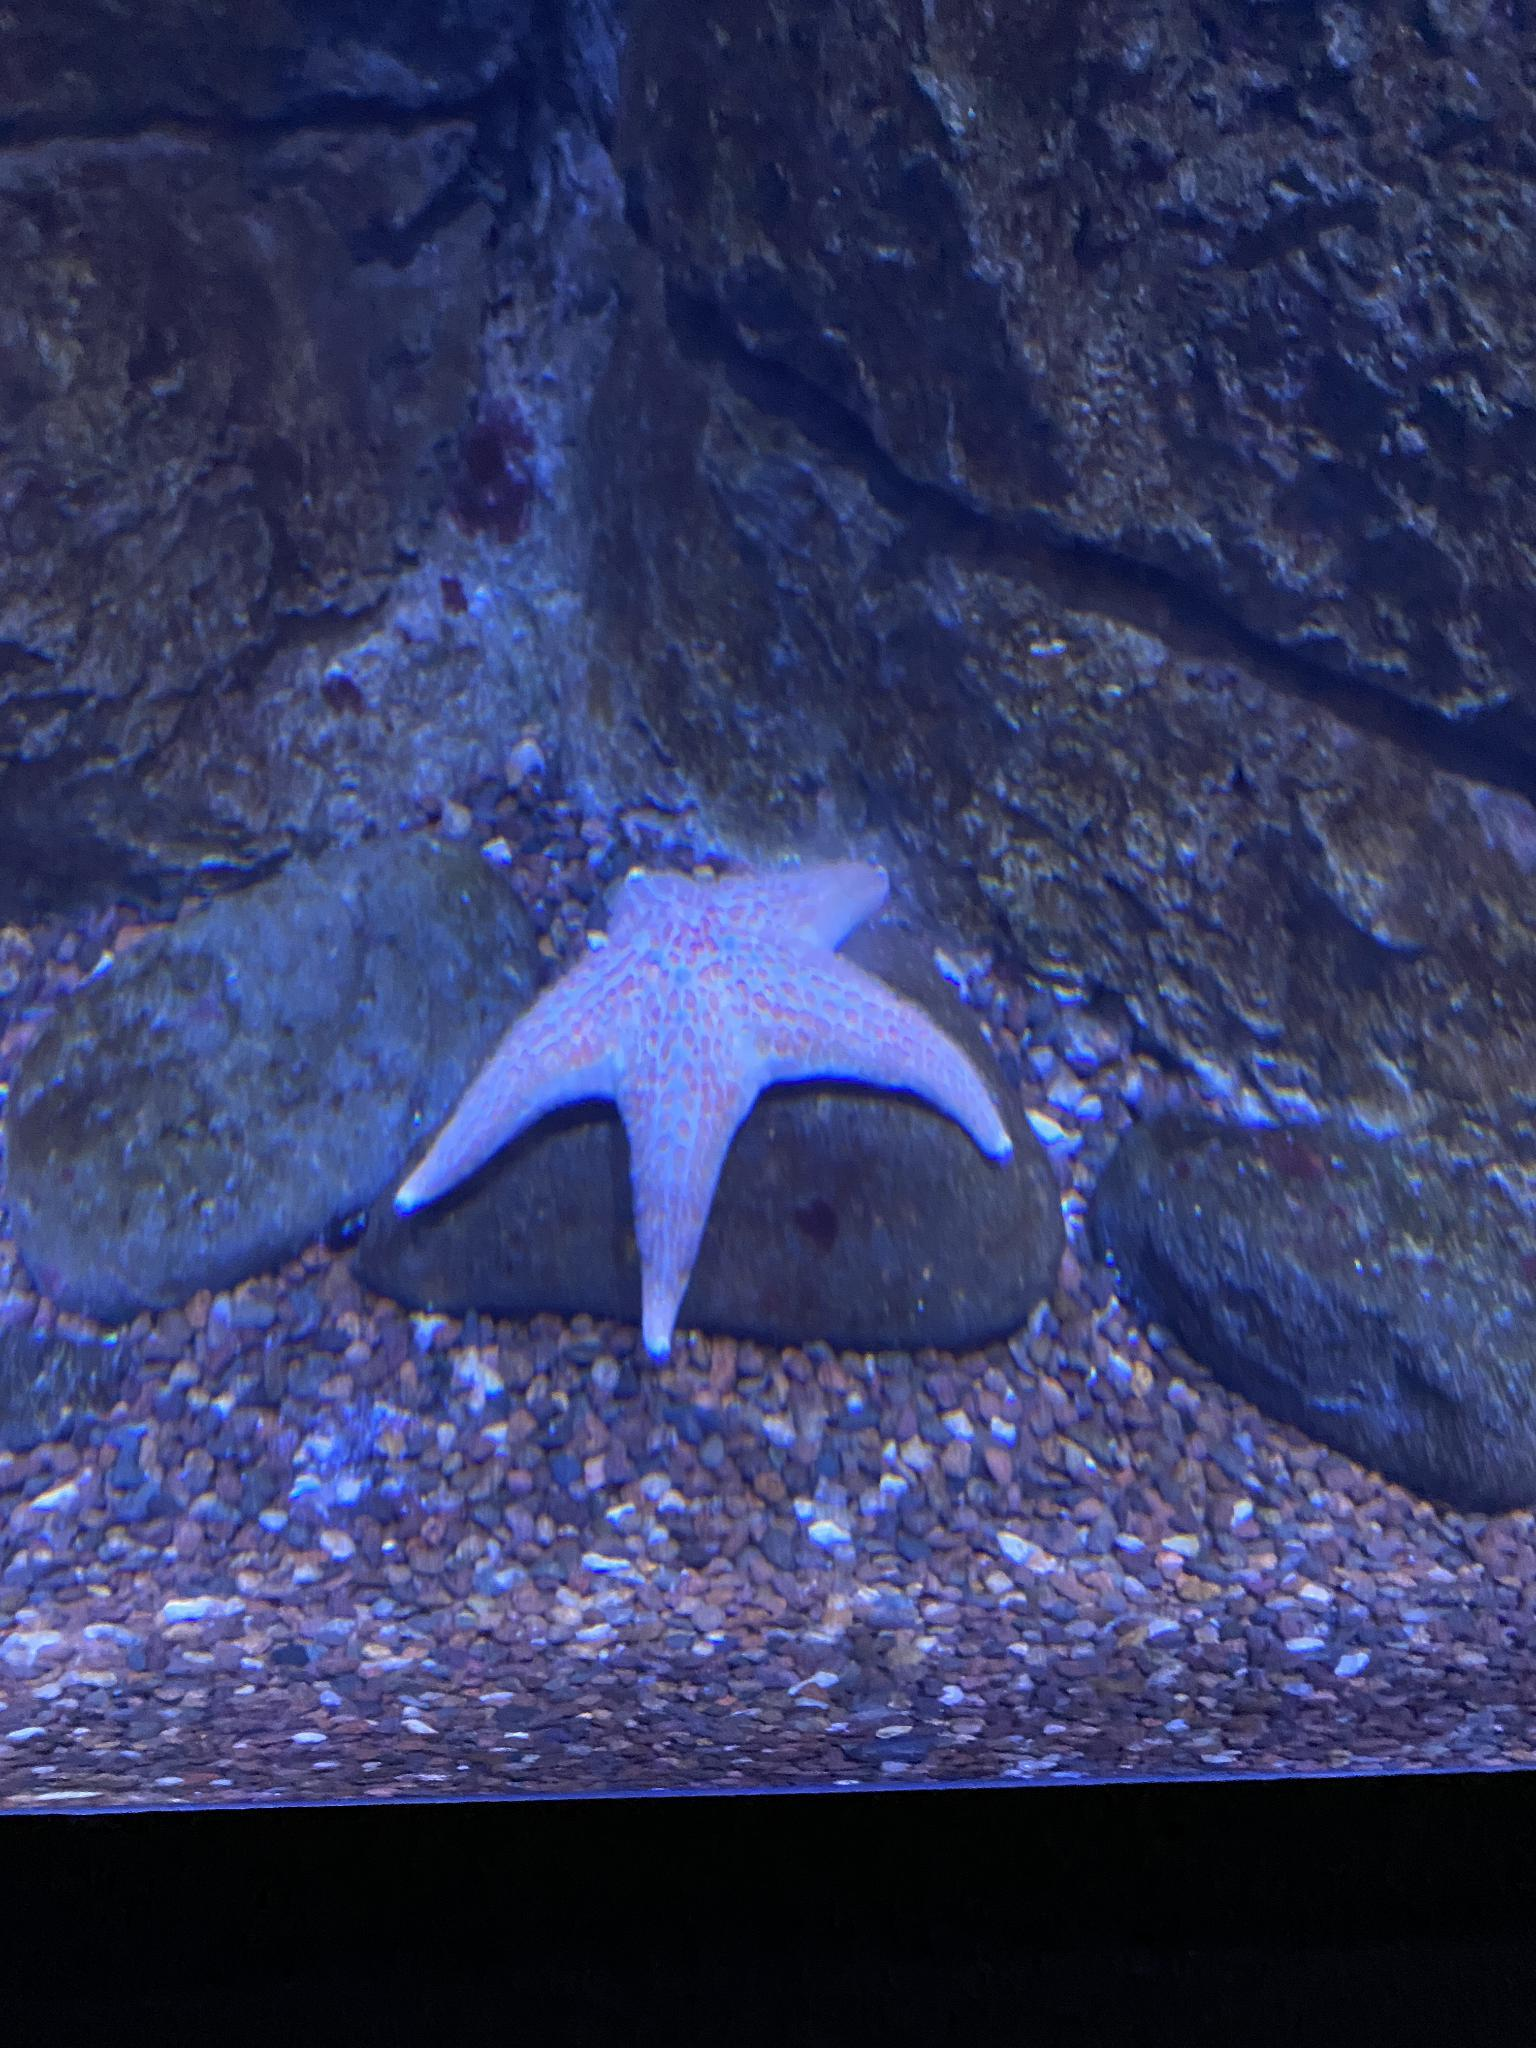starfish: (397, 855, 1008, 1355)
